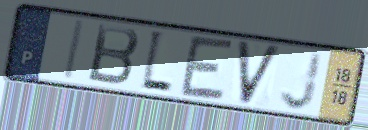B: (85, 21, 142, 88)
E: (177, 33, 237, 104)
I: (61, 18, 88, 83)
J: (278, 50, 325, 112)
L: (138, 26, 175, 97)
V: (235, 38, 284, 108)
